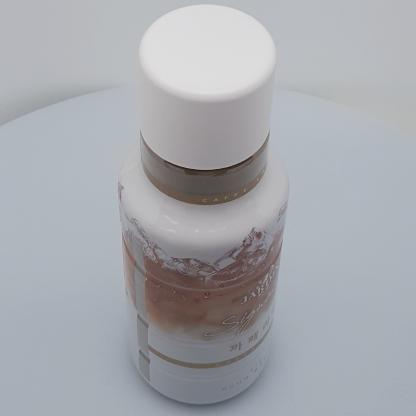----------1-1L: (117, 4, 289, 404)
